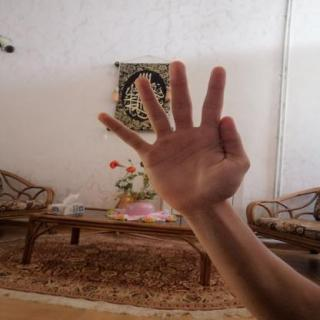SHEEN: (86, 52, 260, 222)
